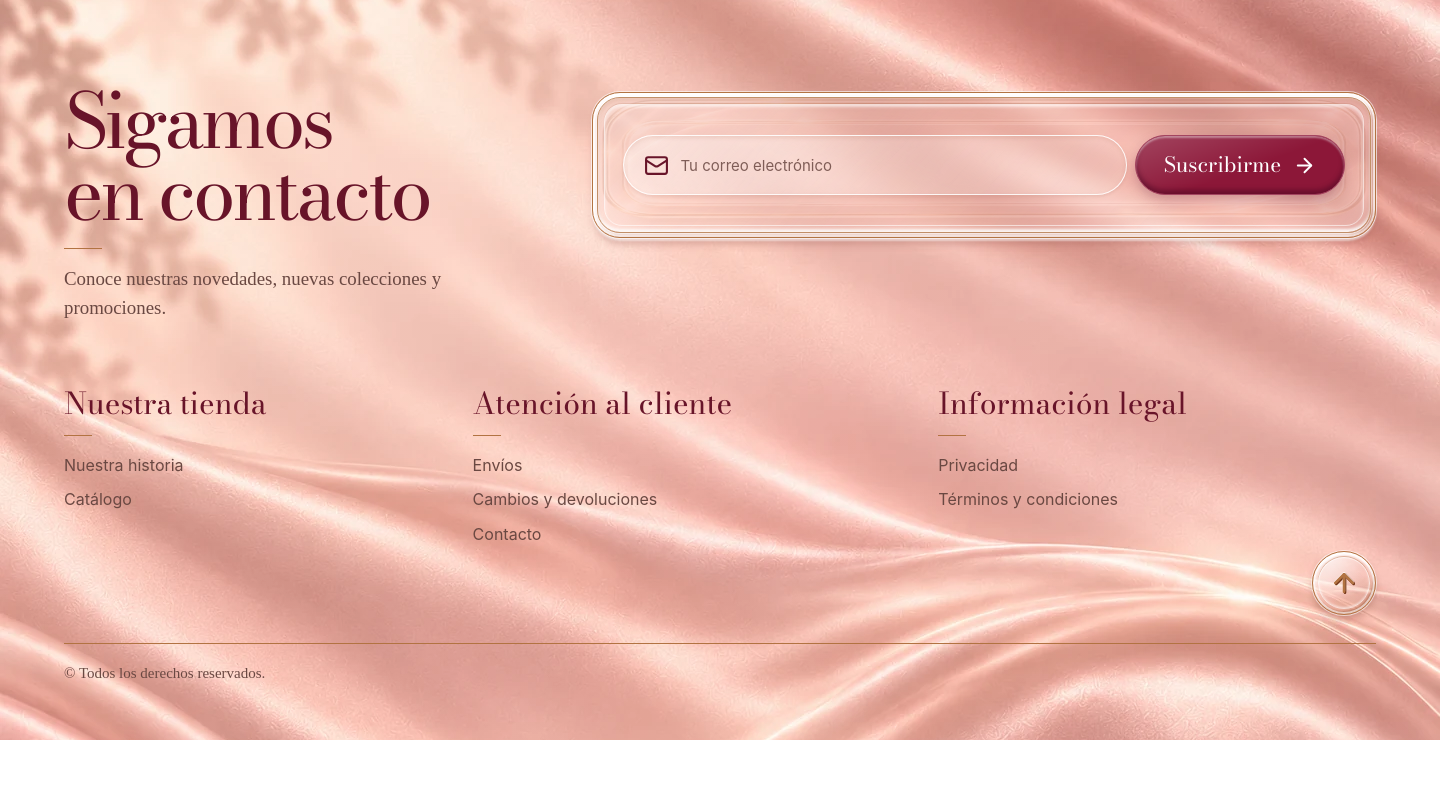
footer Firma editorial › prueba la suscripción en el editor sin registrar datos
Step 1. Type "demo@example.com" into the field labelled "correo electrónico" → (893, 165), box left=680, top=154, right=1106, bottom=176
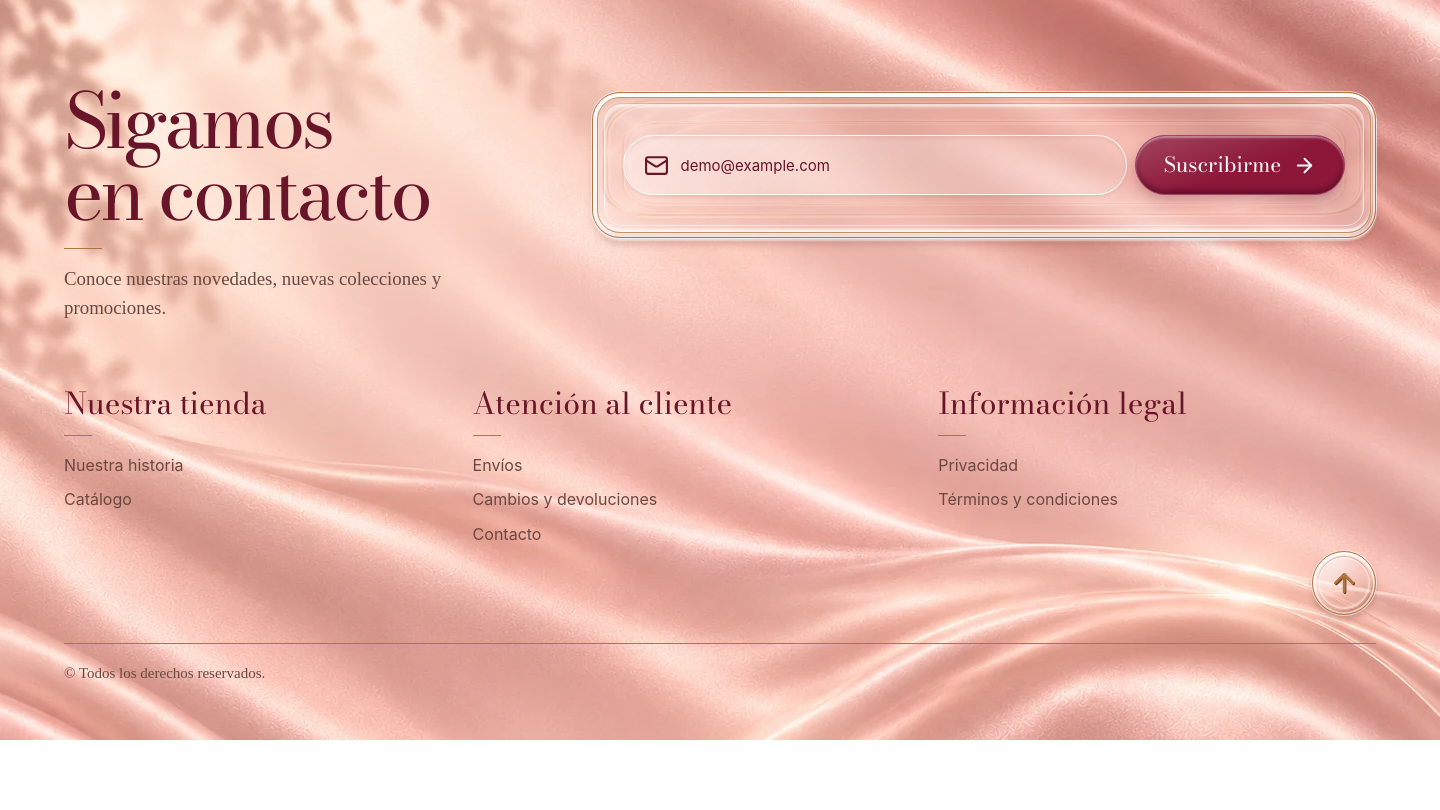
Step 2. Submit the form named "Suscripción a novedades", box left=592, top=92, right=1376, bottom=238
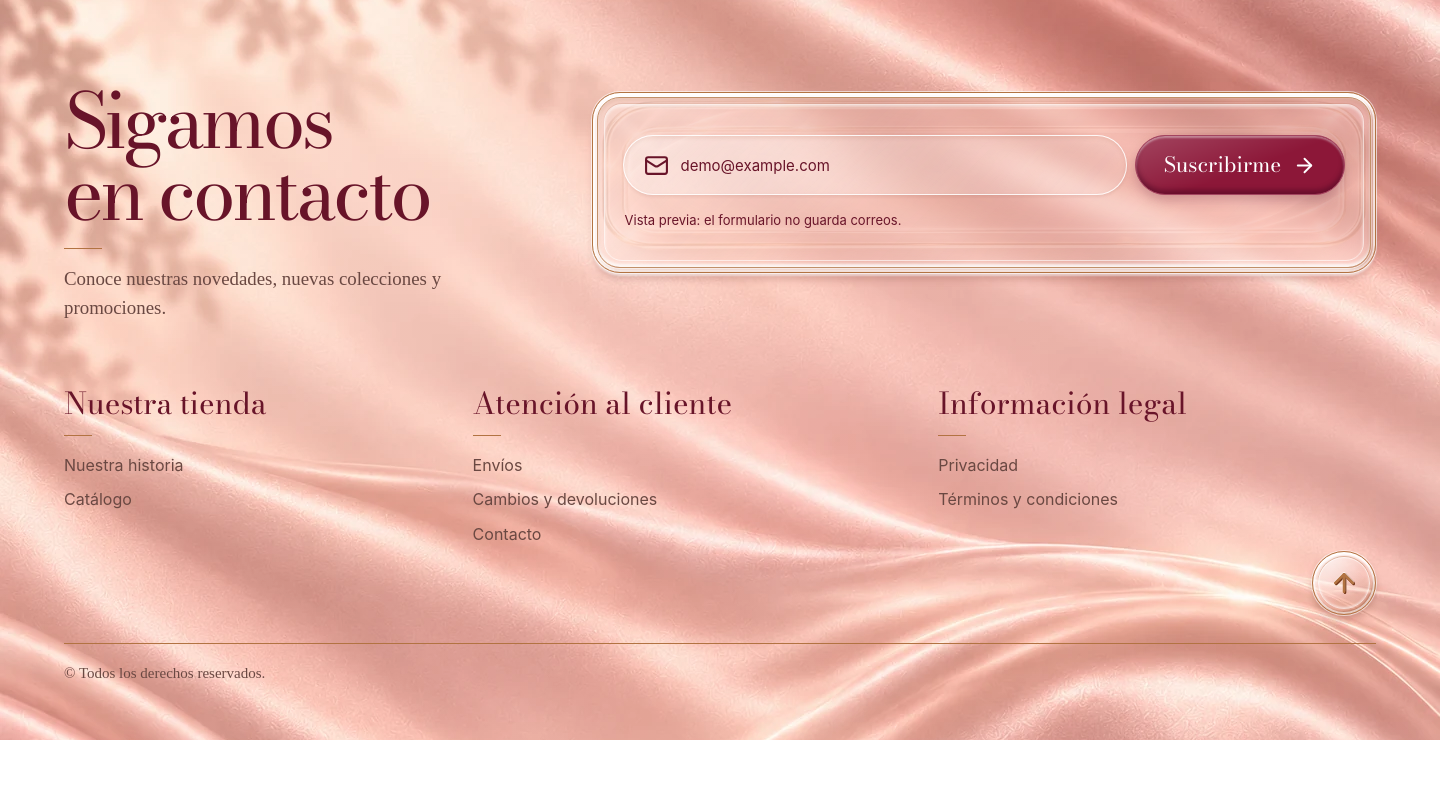
Now the message shows "Vista previa", box left=624, top=212, right=901, bottom=228
